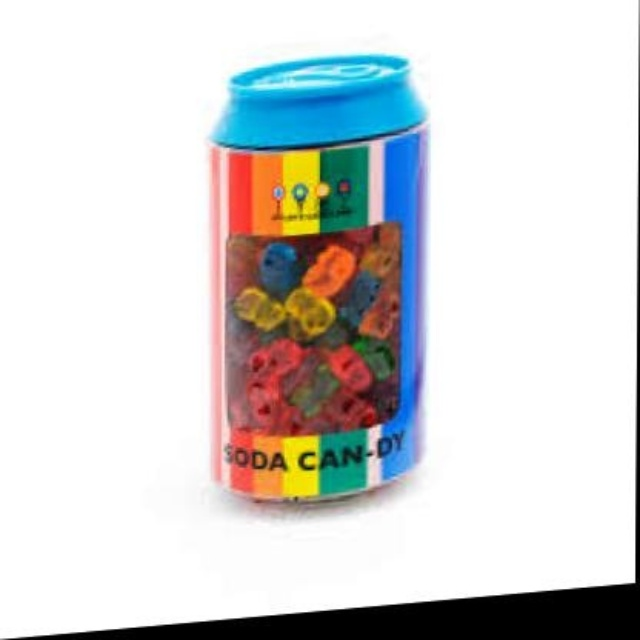trash: (212, 54, 425, 498)
